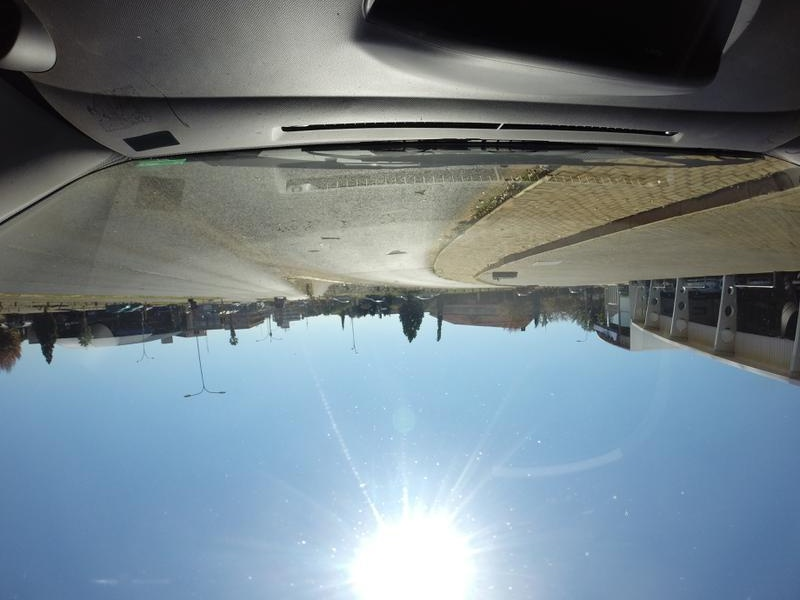pothole: (314, 235, 343, 245), (404, 187, 430, 198), (383, 246, 407, 257)
